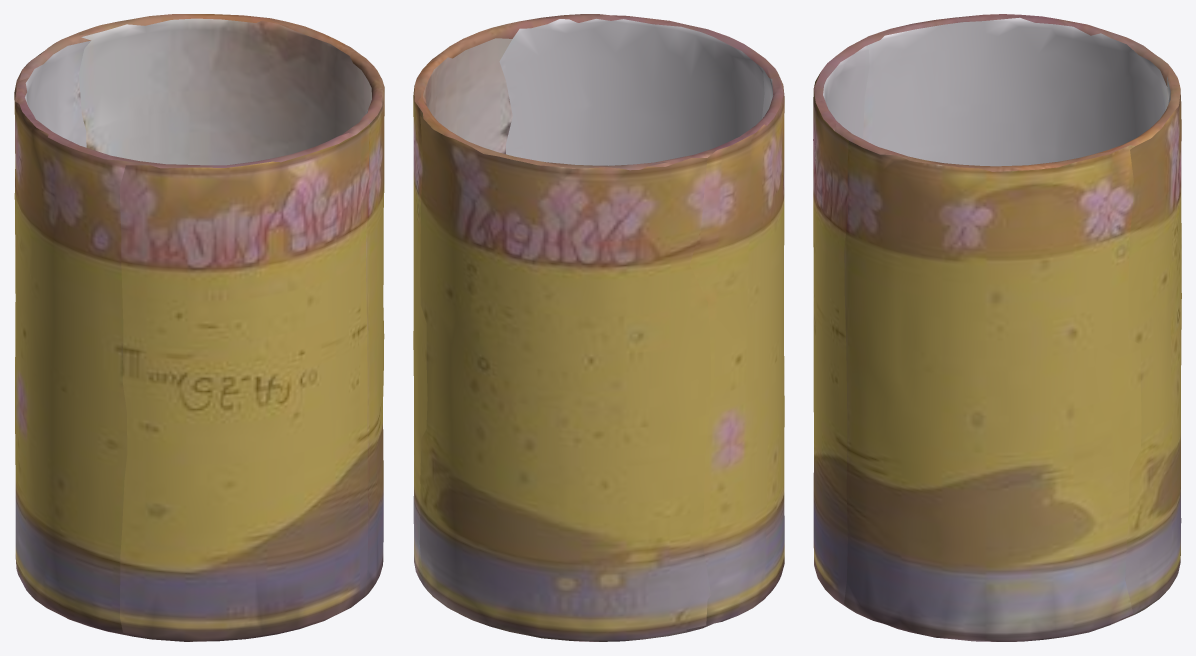
The model's file is blossom_tea.glb.
The picture shows the model from 3 angles, left to right: view 1: azimuth 30°, elevation 25°; view 2: azimuth 150°, elevation 25°; view 3: azimuth 270°, elevation 25°; orthographic projection.
Parts seen in each view (by area): view 1: blossom_tea; view 2: blossom_tea; view 3: blossom_tea.
Boxes of the visible parts, x1,y1,x2,y2 form: blossom_tea: (14,14,384,641); blossom_tea: (413,14,784,641); blossom_tea: (813,14,1181,641).
Size of the model in its own units: 0.7071 by 1 by 0.7033.
1 material, 1 textured.
